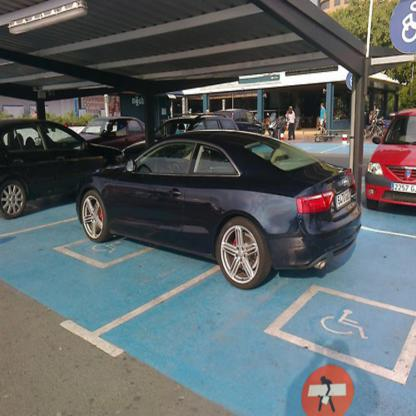Car: (76, 129, 362, 289), (1, 121, 126, 219), (366, 107, 415, 210), (56, 117, 146, 151), (154, 113, 240, 144), (216, 108, 266, 132)
